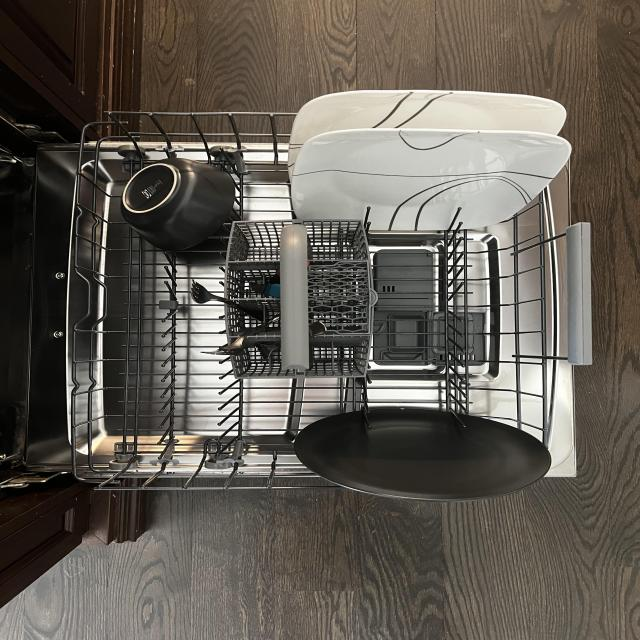Bowl: (118, 158, 238, 253)
Fork: (199, 309, 281, 357), (186, 276, 264, 321), (253, 336, 280, 360)
Knife: (247, 278, 280, 302)
Plate: (291, 127, 572, 234), (292, 404, 554, 503)
